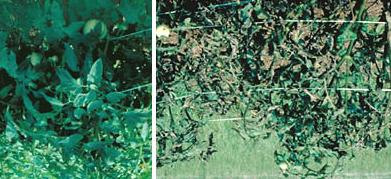Tomato leaf bacterial spot: (85, 53, 108, 89), (21, 90, 42, 127), (47, 0, 71, 31), (59, 128, 82, 154), (0, 46, 18, 73)
